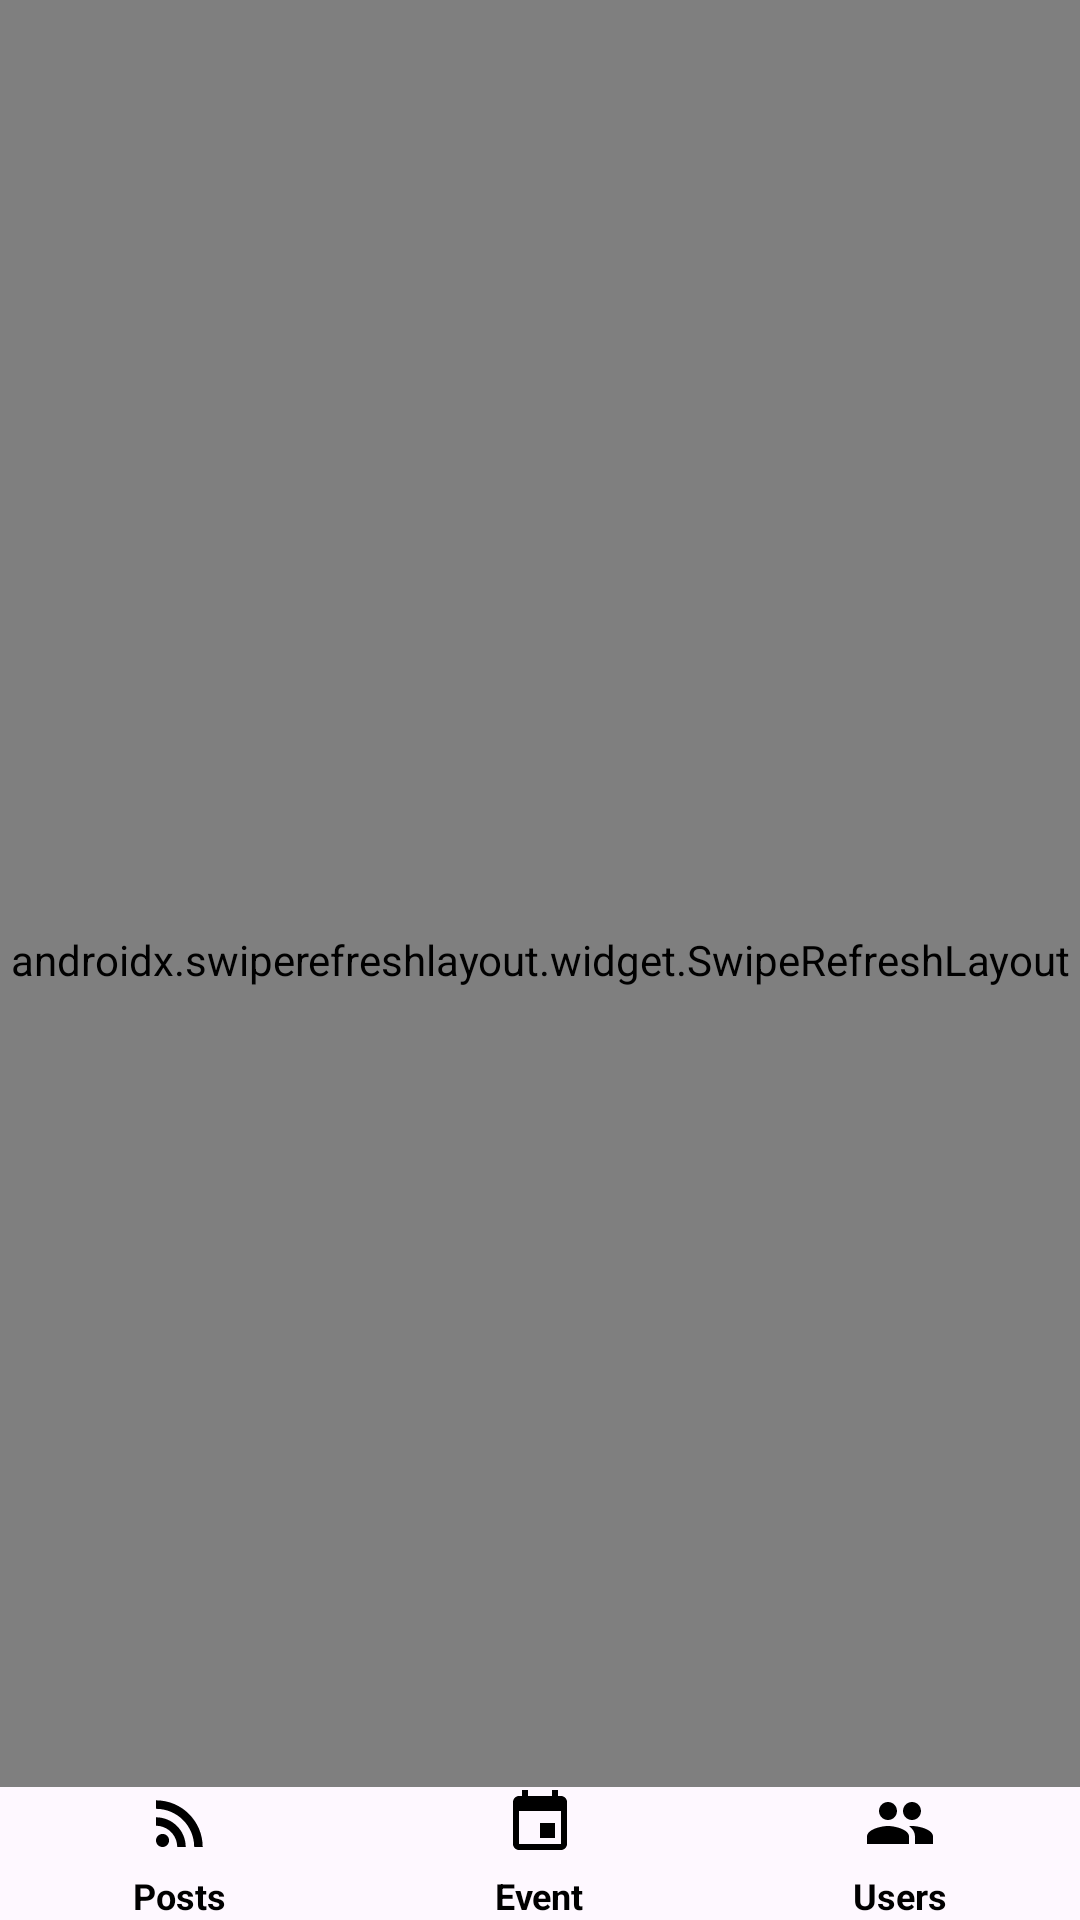

Where icons sit on this 1080 x 1920 app screen, as {"x1": x1, "y1": y1, "x2": x2, "y2": y2}:
rss feed: {"x1": 156, "y1": 1800, "x2": 203, "y2": 1847}
